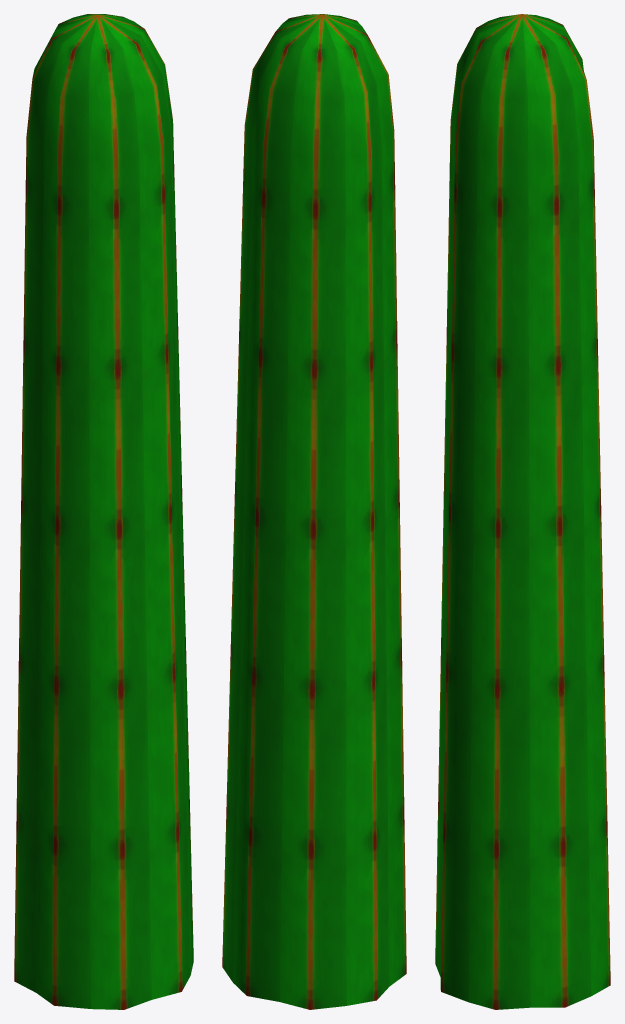
Rendered from cacb.fbx.
The picture shows the model from 3 angles, left to right: view 1: azimuth 30°, elevation 25°; view 2: azimuth 150°, elevation 25°; view 3: azimuth 270°, elevation 25°; orthographic projection.
Visible parts, largest first — view 1: mesh-5.006; view 2: mesh-5.006; view 3: mesh-5.006.
Boxes of the visible parts, x1=… form: mesh-5.006: x1=14, y1=14, x2=193, y2=1009; mesh-5.006: x1=222, y1=14, x2=406, y2=1009; mesh-5.006: x1=435, y1=14, x2=610, y2=1009.
Bounding box in the file's own units: 102 × 612 × 102.
Materials: 1 (1 with a texture image).
